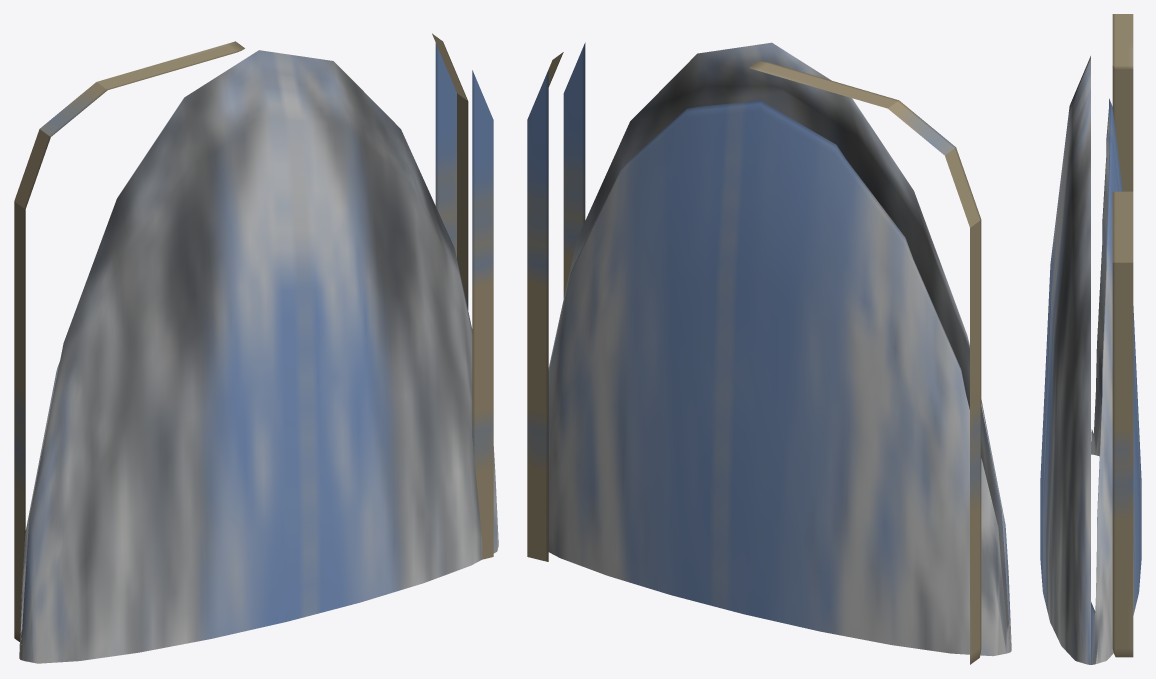
File: section-2.obj
The picture shows the model from 3 angles, left to right: view 1: azimuth 30°, elevation 25°; view 2: azimuth 150°, elevation 25°; view 3: azimuth 270°, elevation 25°; orthographic projection. The views are drawn at different scales.
Bounding box in the file's own units: 0.7549 × 0.8326 × 0.1533.
